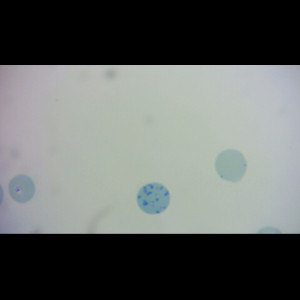aggregate reticulocyte: (136, 182, 171, 215)
erythrocyte: (8, 175, 37, 204)
punctate reticulocyte: (214, 148, 249, 183)
